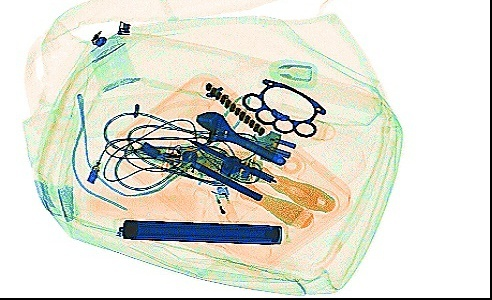lighter: (206, 184, 243, 237)
